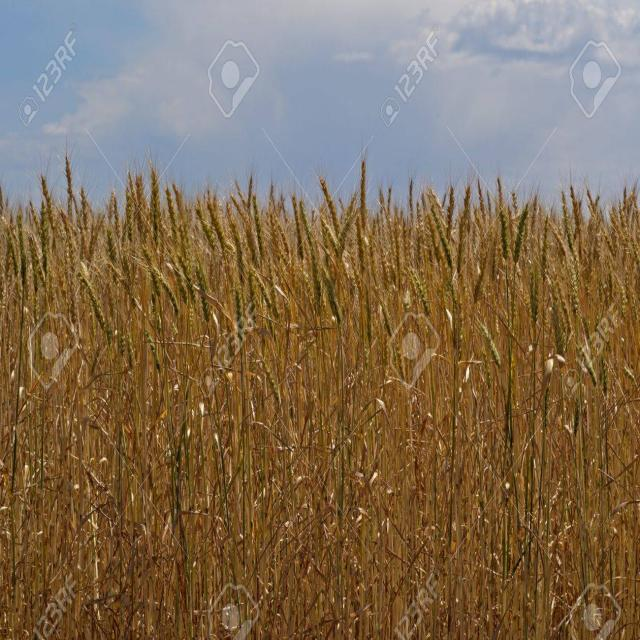healthy_wheat: (2, 146, 640, 640)
